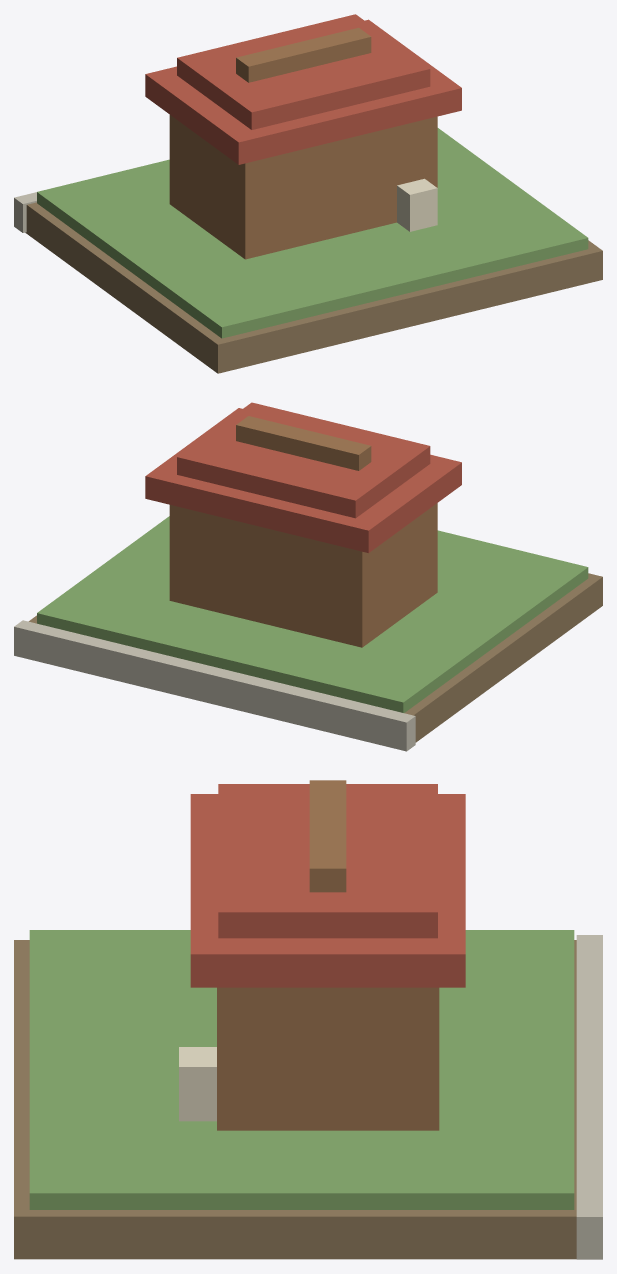
Rendered from 09_NhaKho.glb.
3 views of the same model, one above another, from view 1: azimuth 30°, elevation 25°; view 2: azimuth 150°, elevation 25°; view 3: azimuth 270°, elevation 25° (orthographic). The views are drawn at different scales.
Parts seen in each view (by area): view 1: grass, house, soil, roof2, roof, ridge, sack, border; view 2: grass, house, border, roof2, roof, soil, ridge; view 3: grass, soil, house, roof2, roof, border, ridge, sack.
Part boxes in pixels (box(x1,y1,x2,y2)): grass: box(37, 128, 588, 338); house: box(169, 115, 437, 259); soil: box(25, 202, 602, 373); roof2: box(177, 14, 430, 129); roof: box(145, 19, 461, 164); ridge: box(236, 27, 371, 82); sack: box(397, 178, 437, 231); border: box(14, 192, 36, 232); grass: box(37, 516, 588, 712); house: box(169, 503, 437, 647); border: box(14, 620, 415, 751); roof2: box(177, 402, 430, 518); roof: box(145, 408, 461, 553); soil: box(28, 573, 602, 742); ridge: box(236, 416, 371, 470); grass: box(29, 930, 574, 1209); soil: box(14, 940, 576, 1259); house: box(217, 987, 439, 1130); roof2: box(218, 784, 437, 938); roof: box(190, 794, 465, 987); border: box(576, 935, 602, 1259); ridge: box(309, 780, 346, 892); sack: box(179, 1047, 216, 1121).
Bounding box in the file's own units: 2.55 × 1.25 × 2.25.
